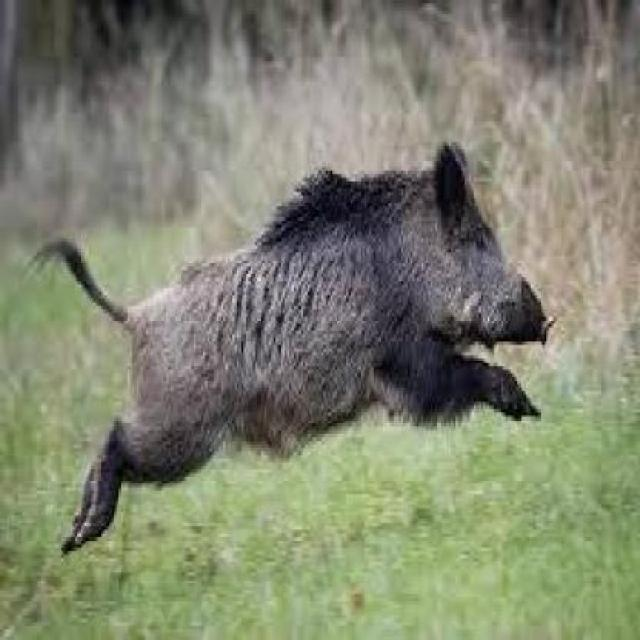wildboar: (28, 129, 560, 566)
